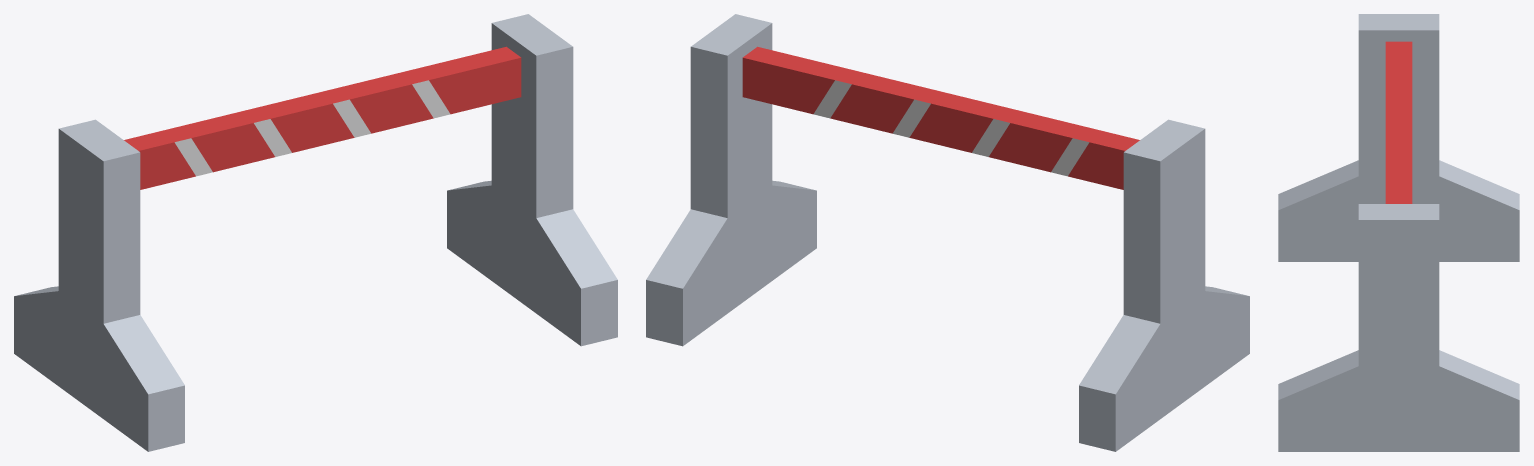
File: road-block-type-B.fbx
The picture shows the model from 3 angles, left to right: view 1: azimuth 30°, elevation 25°; view 2: azimuth 150°, elevation 25°; view 3: azimuth 270°, elevation 25°; orthographic projection. The views are drawn at different scales.
Visible parts, largest first — view 1: 1.6 road-block-type-B; view 2: 1.6 road-block-type-B; view 3: 1.6 road-block-type-B.
Part boxes in pixels (left/top/right/bottom): 1.6 road-block-type-B: left=14, top=14, right=617, bottom=451; 1.6 road-block-type-B: left=646, top=14, right=1249, bottom=451; 1.6 road-block-type-B: left=1278, top=14, right=1519, bottom=451.
Size of the model in its own units: 2.02 by 1.06 by 1.
